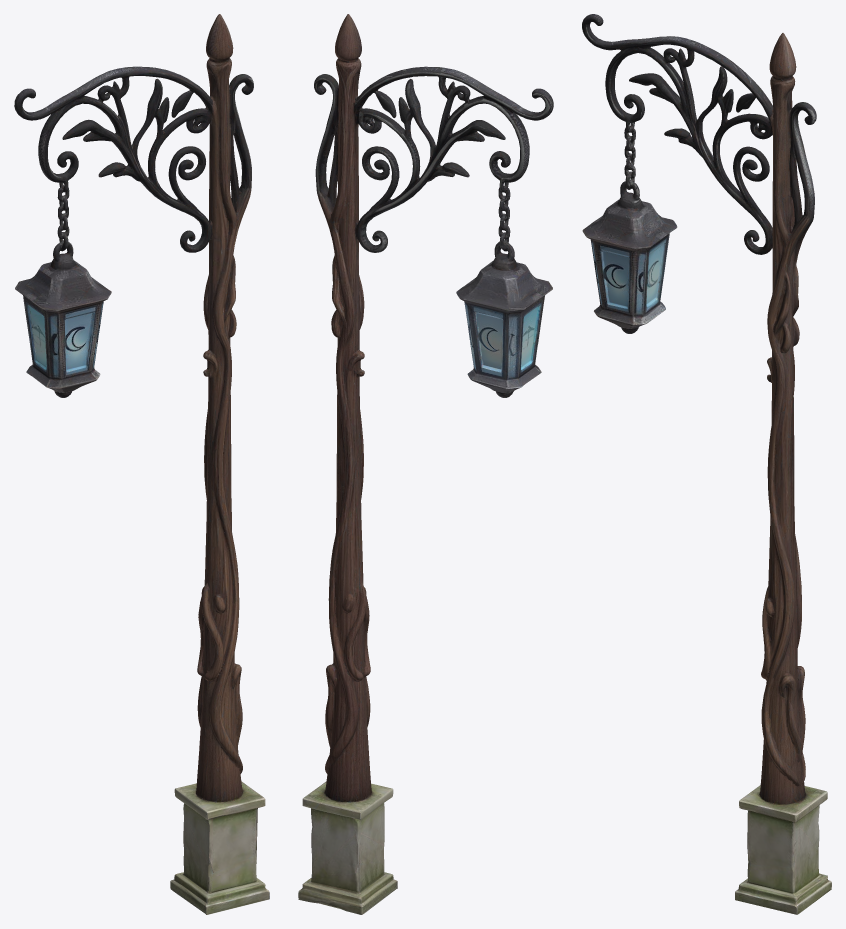
File: hf_lamppost.glb
3 renders of one model, left to right at view 1: azimuth 30°, elevation 25°; view 2: azimuth 150°, elevation 25°; view 3: azimuth 330°, elevation 25°, orthographic. The views are drawn at different scales.
Size of the model in its own units: 0.5378 by 1.9 by 0.1563.
Materials: 1 (1 with a texture image).
